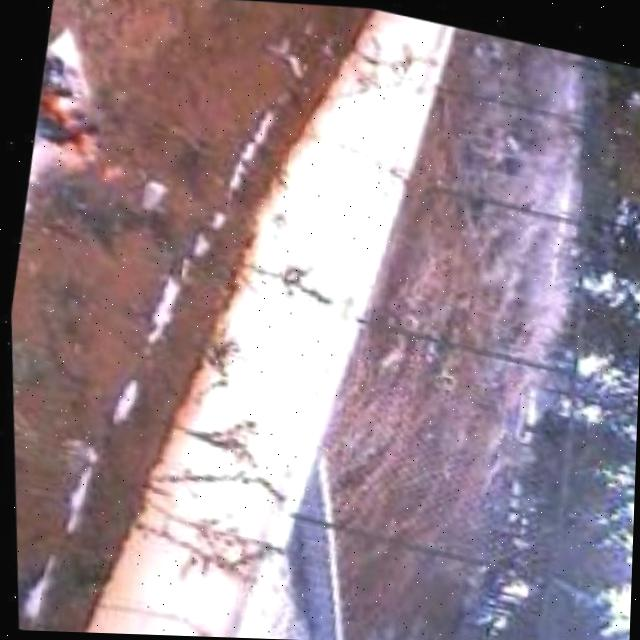fire: (21, 49, 146, 187)
